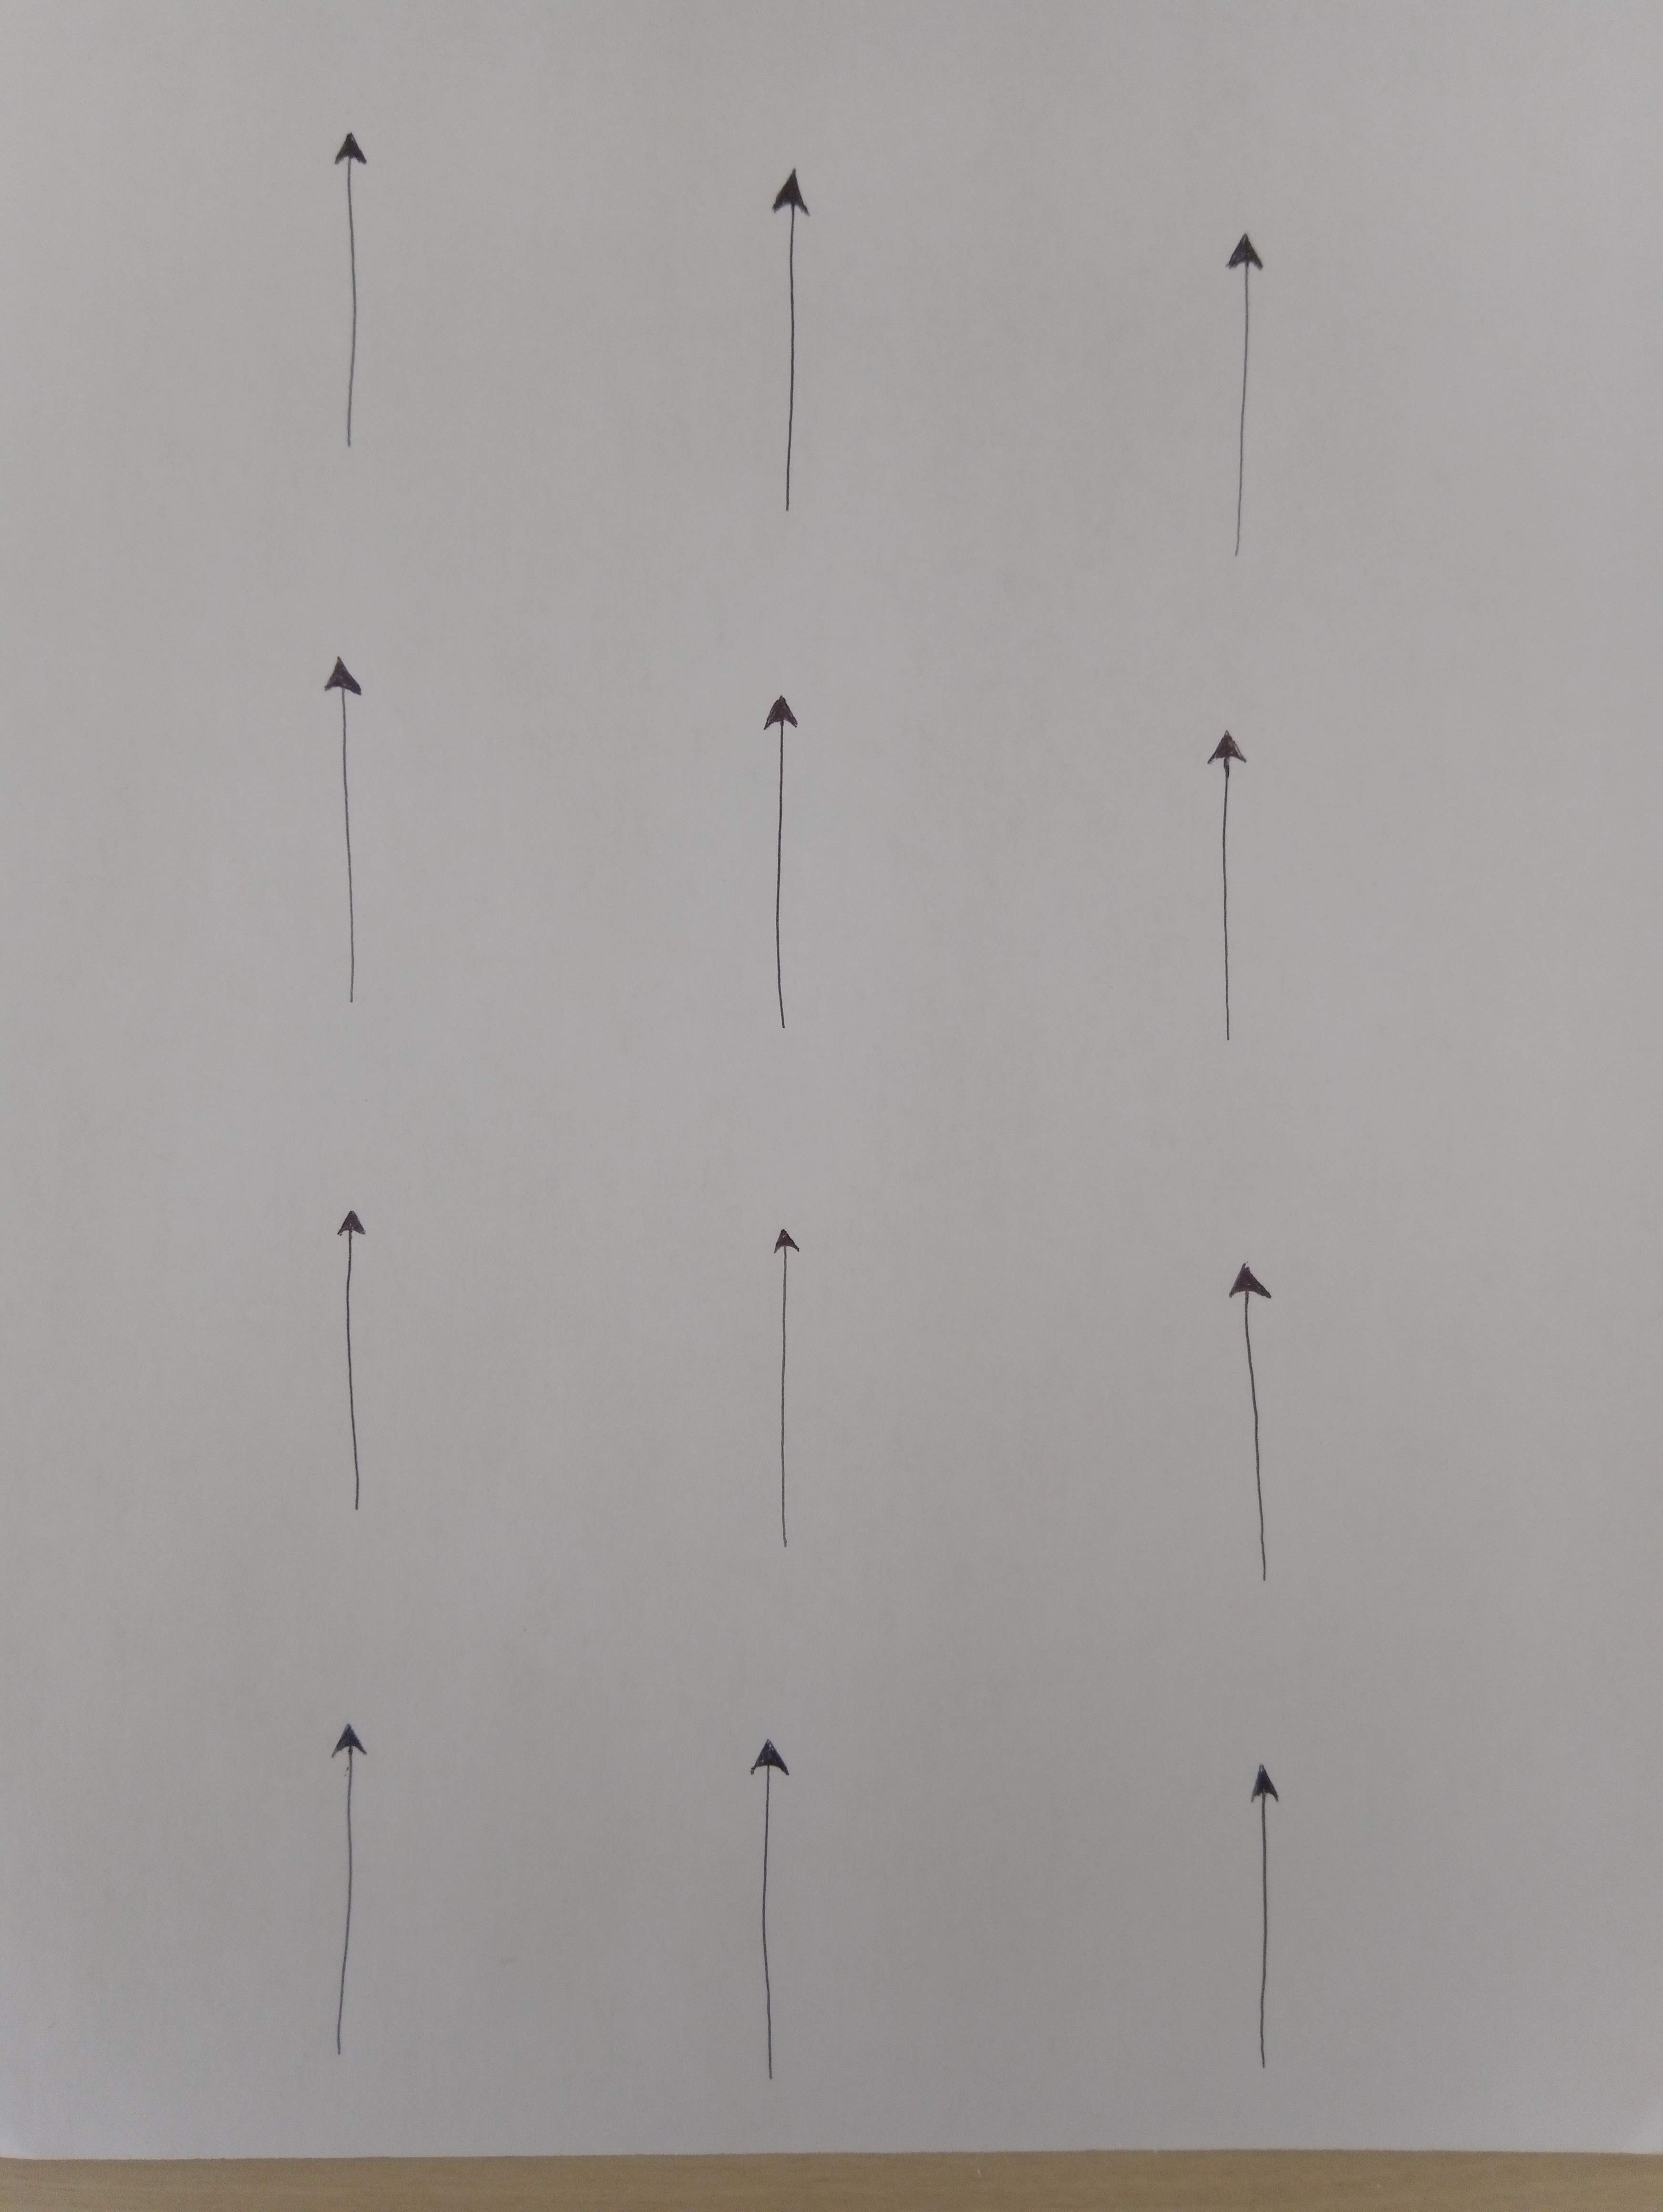arrow_line_up: (746, 131, 856, 519), (1191, 216, 1298, 608), (278, 1192, 393, 1545), (1212, 1240, 1312, 1608), (739, 1725, 823, 2095), (749, 1224, 828, 1592), (313, 108, 398, 426), (742, 690, 816, 1051), (309, 1716, 377, 2104), (1188, 716, 1266, 1046), (316, 651, 393, 983), (1247, 1758, 1308, 2092)
